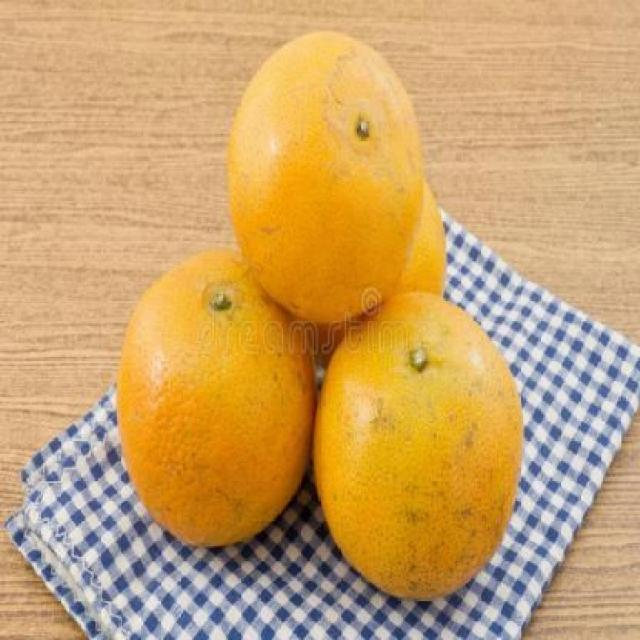Jeruk Sudah Matang: (318, 294, 522, 597), (115, 253, 314, 544), (229, 34, 423, 323)
